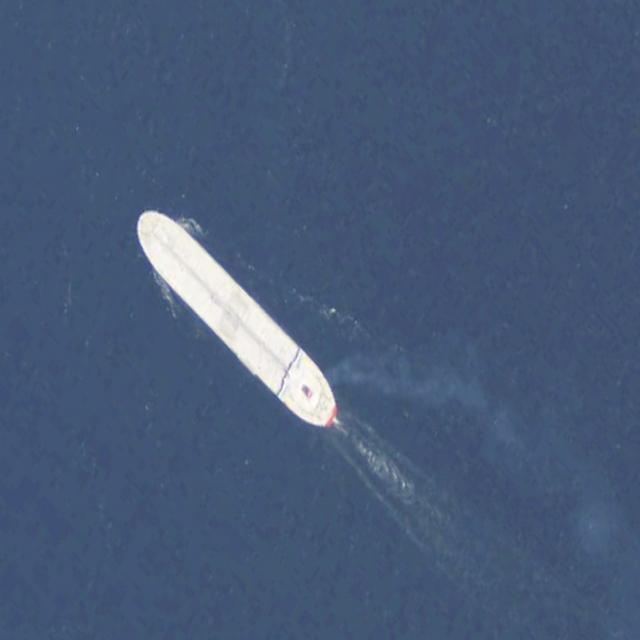Container Ship: (125, 194, 349, 444)
